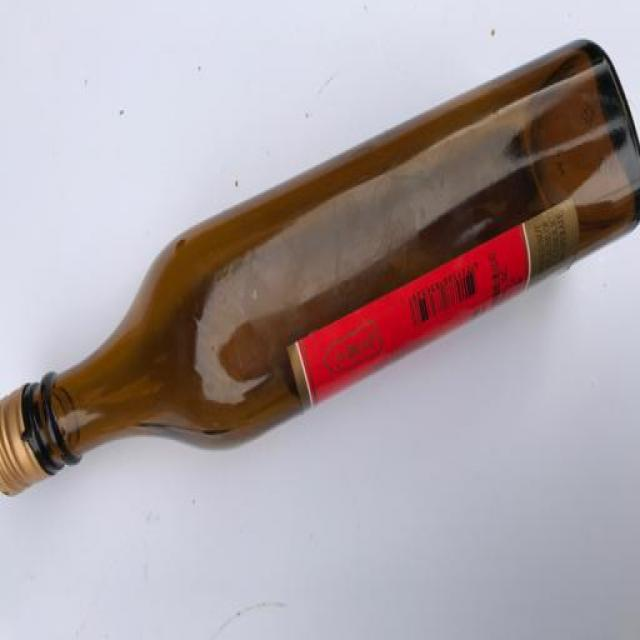glass: (1, 35, 640, 510)
